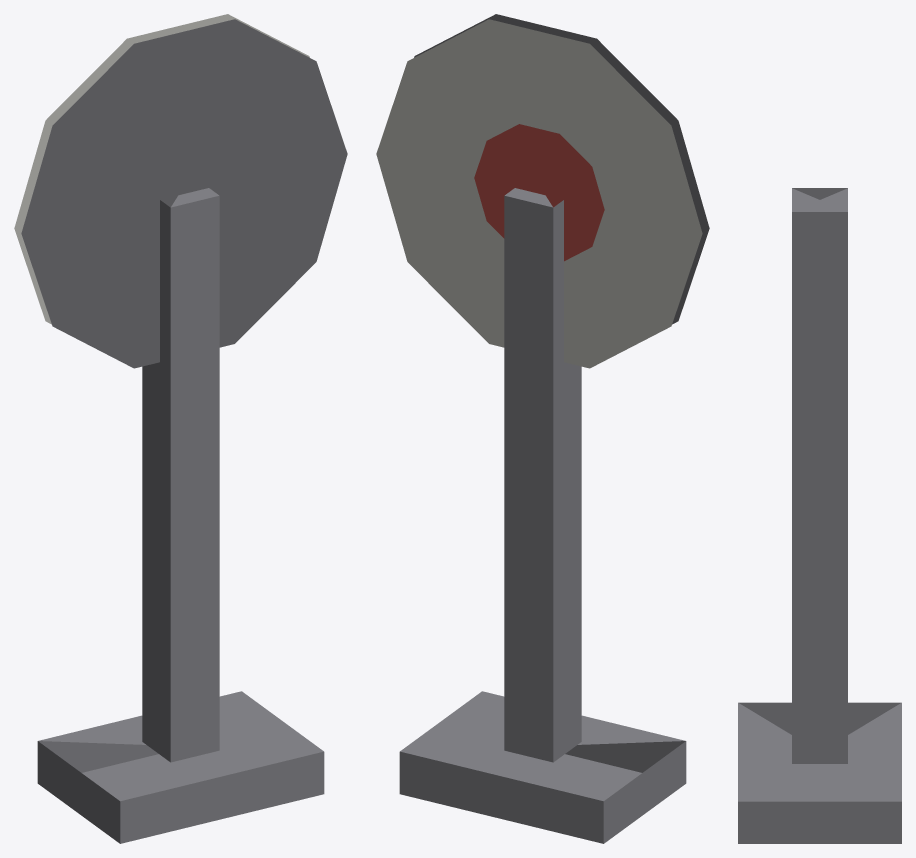
File: target.glb
The picture shows the model from 3 angles, left to right: view 1: azimuth 30°, elevation 25°; view 2: azimuth 150°, elevation 25°; view 3: azimuth 270°, elevation 25°; orthographic projection.
Visible parts, largest first — view 1: plate, post; view 2: plate, post; view 3: post.
Boxes of the visible parts, x1=… form: plate: x1=14, y1=14, x2=347, y2=368; post: x1=37, y1=188, x2=324, y2=843; plate: x1=376, y1=14, x2=709, y2=368; post: x1=399, y1=188, x2=686, y2=843; post: x1=738, y1=188, x2=901, y2=843.
Size of the model in its own units: 0.8 by 1.78 by 0.35.
